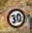limite 30: (5, 7, 26, 28)
